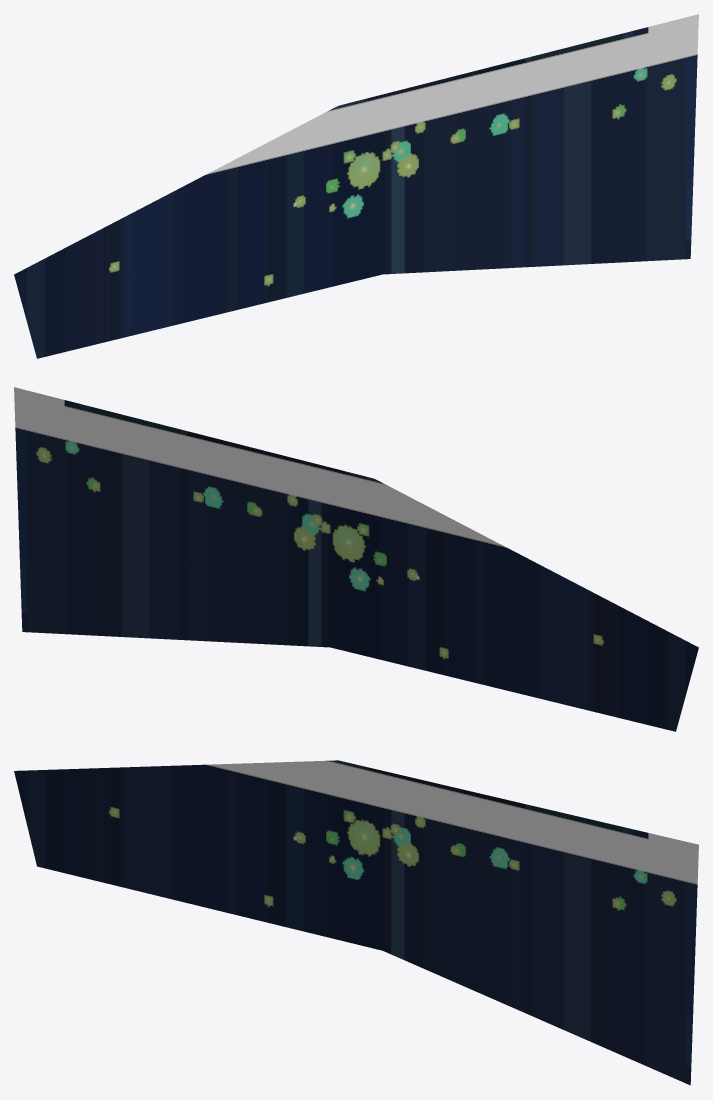
File: HuBian_NightTree01_FBX.FBX
3 renders of one model, top to bottom at view 1: azimuth 30°, elevation 25°; view 2: azimuth 150°, elevation 25°; view 3: azimuth 330°, elevation 25°, orthographic.
Parts seen in each view (by area): view 1: HuBian_NightTree01_FBX; view 2: HuBian_NightTree01_FBX; view 3: HuBian_NightTree01_FBX.
Part boxes in pixels (x1,y1,x2,y2): HuBian_NightTree01_FBX: [14, 14, 698, 358]; HuBian_NightTree01_FBX: [14, 387, 698, 731]; HuBian_NightTree01_FBX: [14, 760, 698, 1085].
Size of the model in its own units: 3.71 by 1.26 by 1.71e-07.
